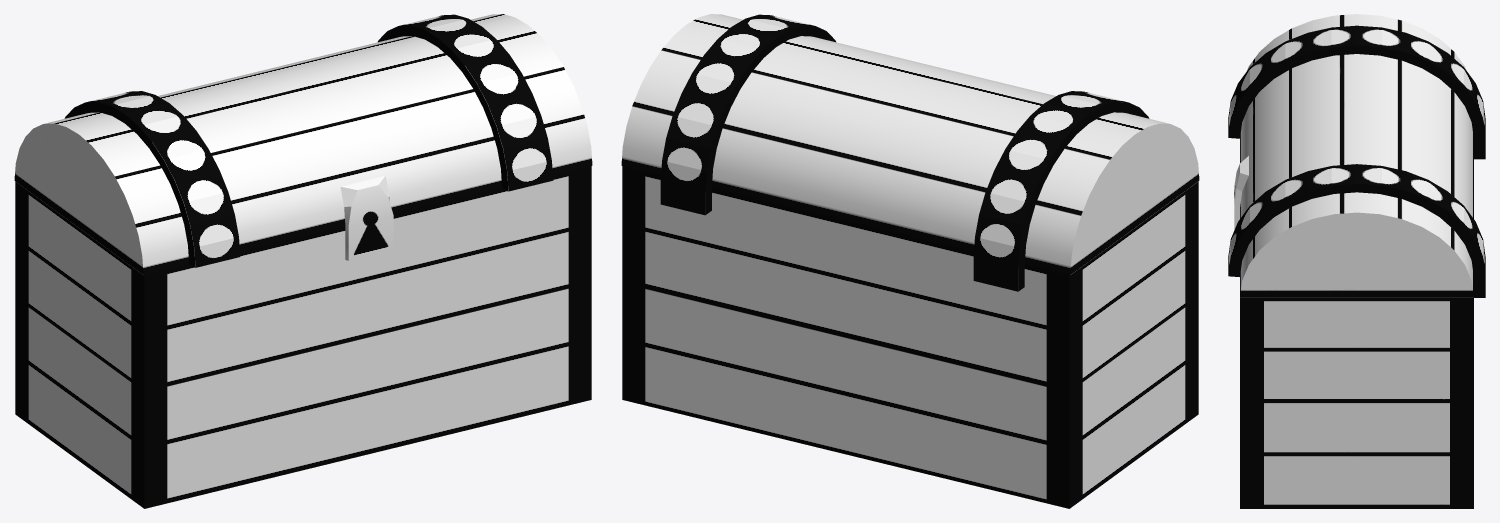
File: chest.glb
3 renders of one model, left to right at view 1: azimuth 30°, elevation 25°; view 2: azimuth 150°, elevation 25°; view 3: azimuth 270°, elevation 25°, orthographic. The views are drawn at different scales.
Parts seen in each view (by area): view 1: box, lid; view 2: box, lid; view 3: lid, box.
Boxes of the visible parts, x1,y1,x2,y2 form: box: (15, 166, 591, 508); lid: (14, 14, 592, 275); box: (622, 166, 1198, 508); lid: (621, 14, 1199, 291); lid: (1228, 14, 1485, 297); box: (1240, 297, 1473, 508).
Size of the model in its own units: 4.02 by 2.88 by 2.2.
1 material, 1 textured.
